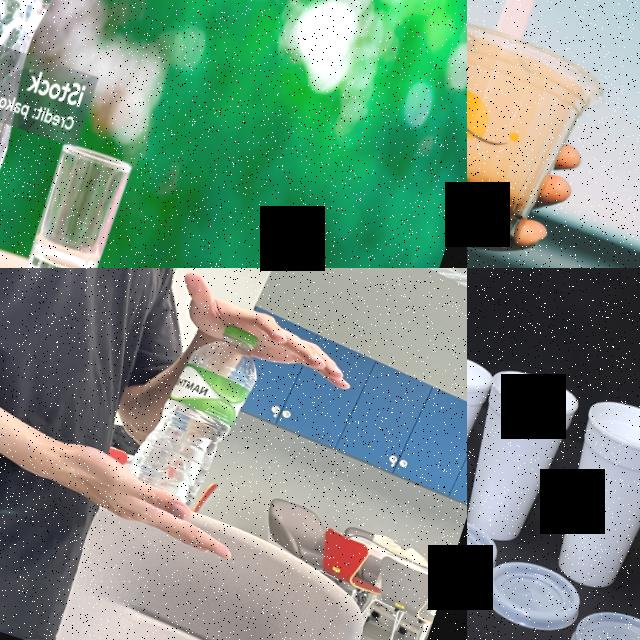bottle: (0, 0, 149, 256), (122, 308, 272, 518)
cup: (467, 0, 613, 267), (530, 392, 640, 599), (467, 364, 585, 550), (467, 343, 497, 508)
